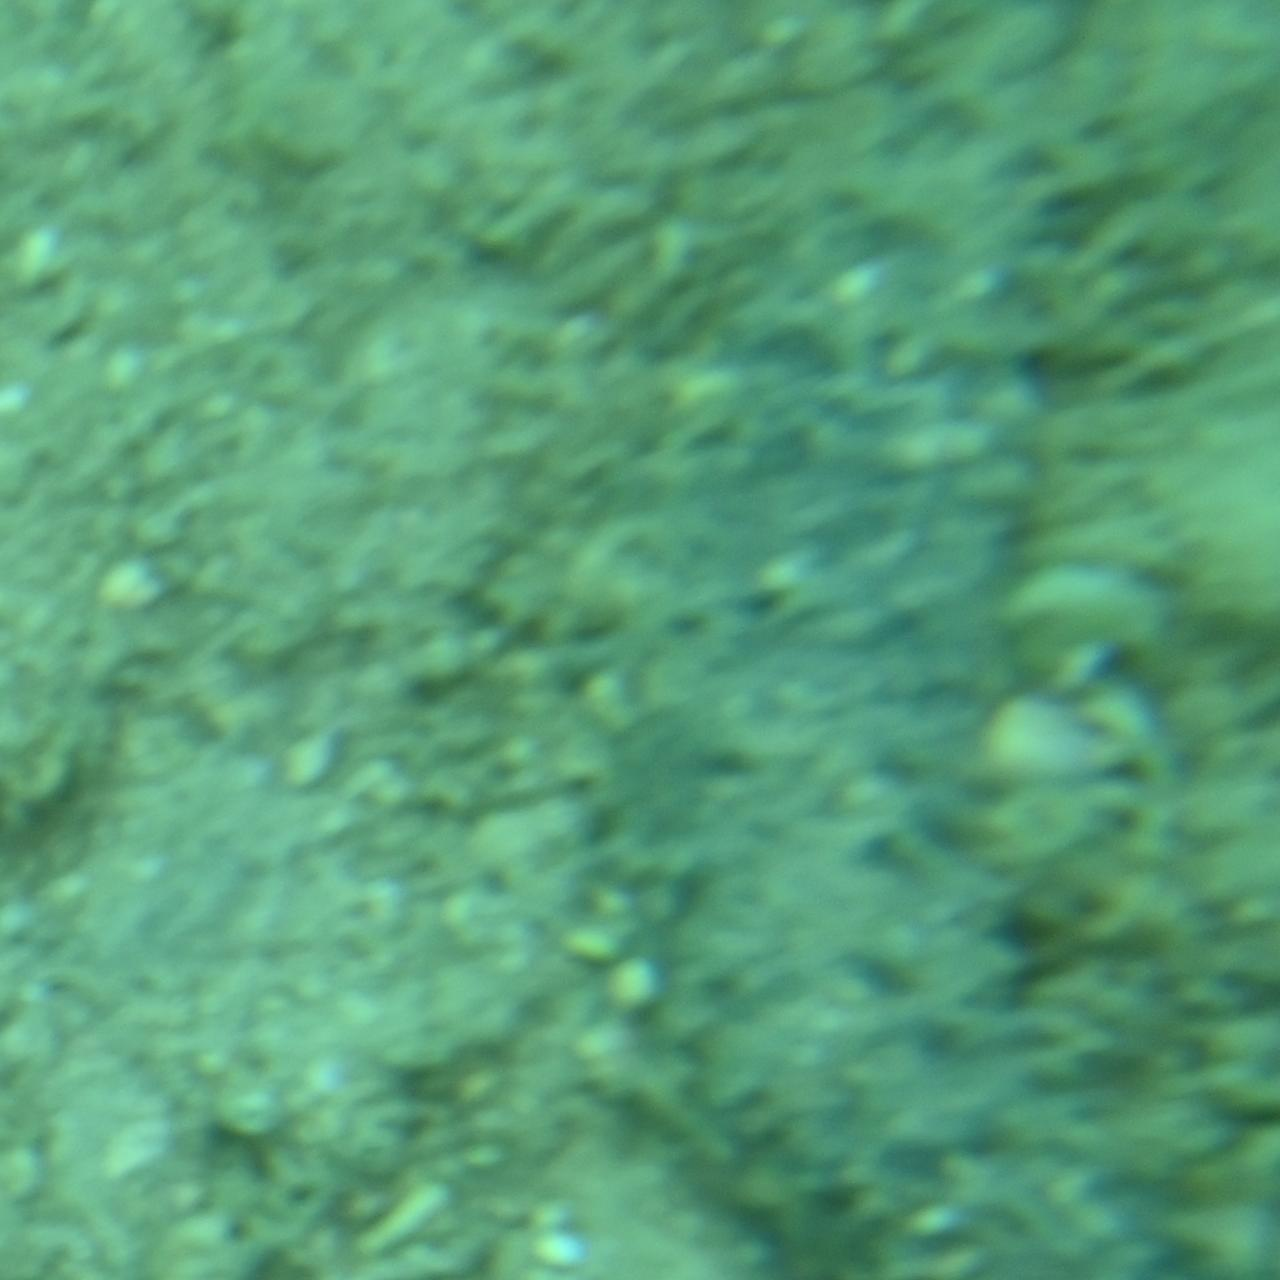Holothuria tubulosa: (517, 0, 1202, 1280)
